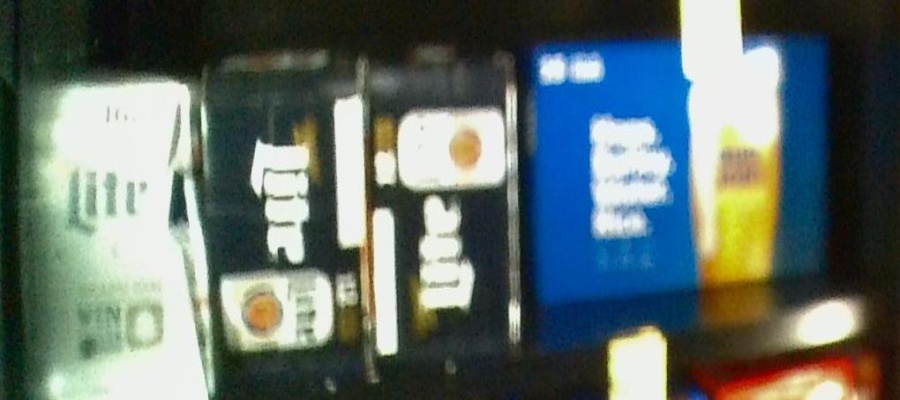bottle: (532, 38, 827, 277), (14, 80, 205, 396), (207, 59, 366, 358), (366, 61, 523, 347)
